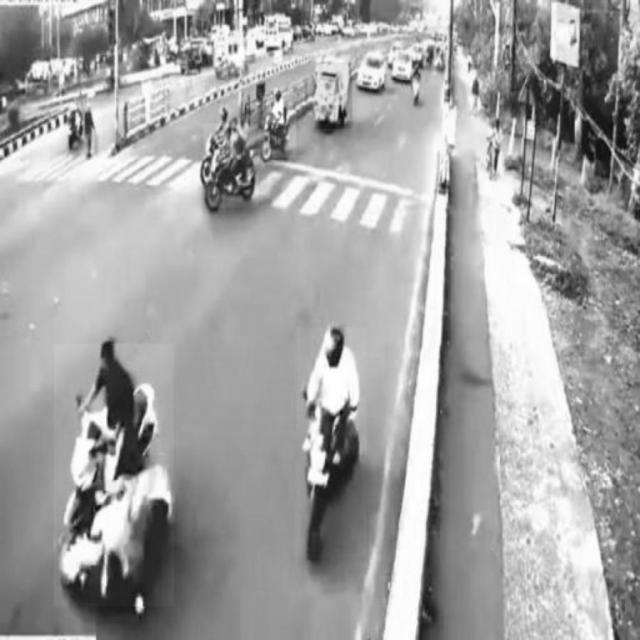accident: (55, 344, 175, 606)
vehicle: (297, 328, 367, 558), (204, 124, 259, 207), (259, 92, 296, 158), (315, 63, 352, 129)
